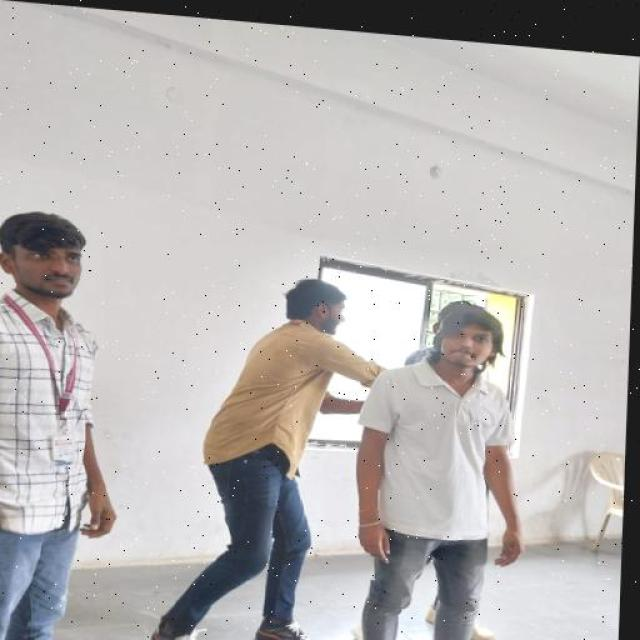id_card: (13, 293, 90, 467)
